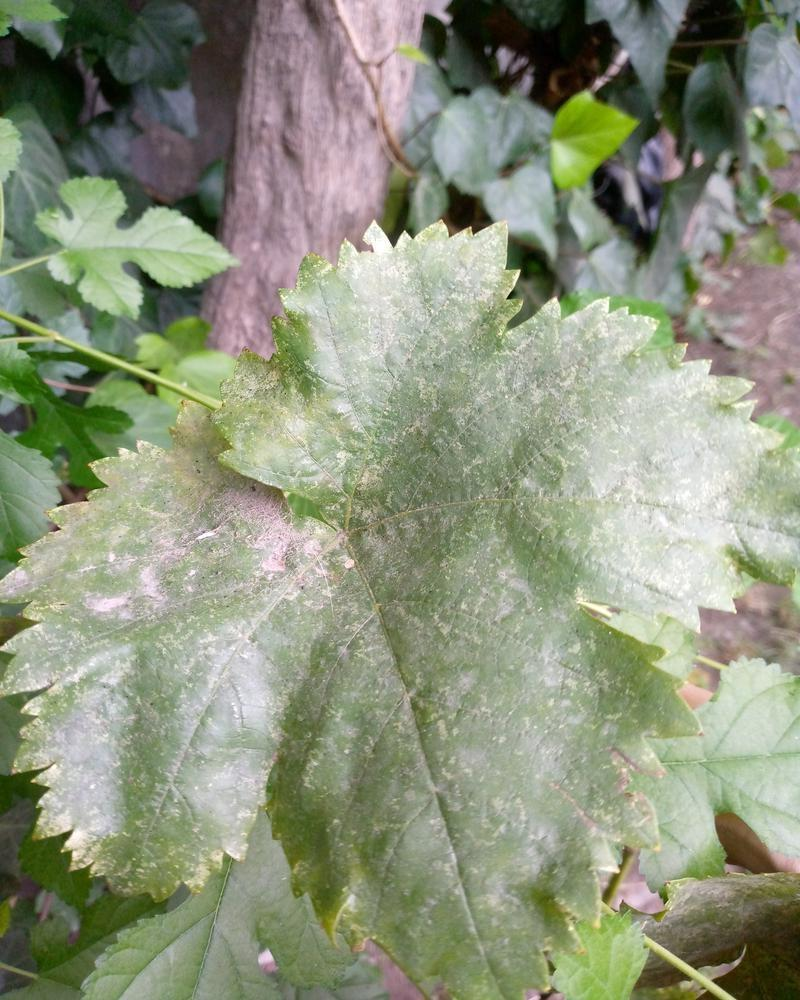Powdery-Mildew: (581, 380, 785, 620), (303, 218, 505, 395), (167, 608, 273, 854), (40, 640, 150, 844), (509, 616, 639, 786), (544, 312, 657, 444), (450, 818, 574, 927), (79, 506, 186, 630), (226, 499, 345, 609), (293, 424, 356, 487)
